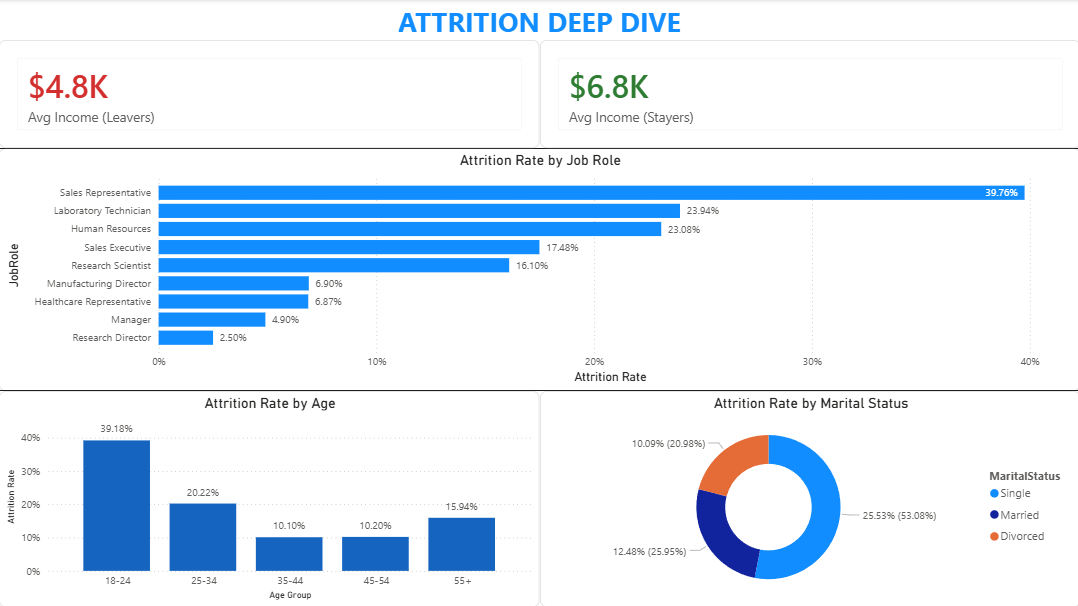

The dashboard page shown, as its layout file describes it:
{"tool":"powerbi","page":{"name":"Page 2","canvas":[1280,720],"ordinal":1},"visuals":[{"type":"actionButton","box":[0,0,1280,48],"z":0},{"type":"clusteredBarChart","title":"Attrition Rate by Job Role","fields":{"Category":["employees.JobRole"],"Y":["employees.Attrition Rate"]},"box":[0,176,1280,288],"z":1000},{"type":"clusteredColumnChart","title":"Attrition Rate by Age","fields":{"Category":["employees.Age Group"],"Y":["employees.Attrition Rate"]},"box":[0,464,640,256],"z":2000},{"type":"donutChart","title":"Attrition Rate by Marital Status","fields":{"Category":["employees.MaritalStatus"],"Y":["employees.Attrition Rate"]},"box":[640,464,640,256],"z":3000},{"type":"cardVisual","fields":{"Data":["employees.Avg Income Left"]},"box":[0,48,640,128],"z":4000},{"type":"cardVisual","fields":{"Data":["employees.Avg Income Stayed"]},"box":[640,48,640,128],"z":5000}]}

Visuals, with their boxes in screenshot pixels (x1, y1, x2, y2), scaled from the page's 1280x720 canvas onto the 1078x606 screenshot:
actionButton: bbox(0, 0, 1077, 40)
"Attrition Rate by Job Role" clusteredBarChart: bbox(0, 148, 1077, 391)
"Attrition Rate by Age" clusteredColumnChart: bbox(0, 391, 539, 605)
"Attrition Rate by Marital Status" donutChart: bbox(539, 391, 1077, 605)
cardVisual - employees.Avg Income Left: bbox(0, 40, 539, 148)
cardVisual - employees.Avg Income Stayed: bbox(539, 40, 1077, 148)
